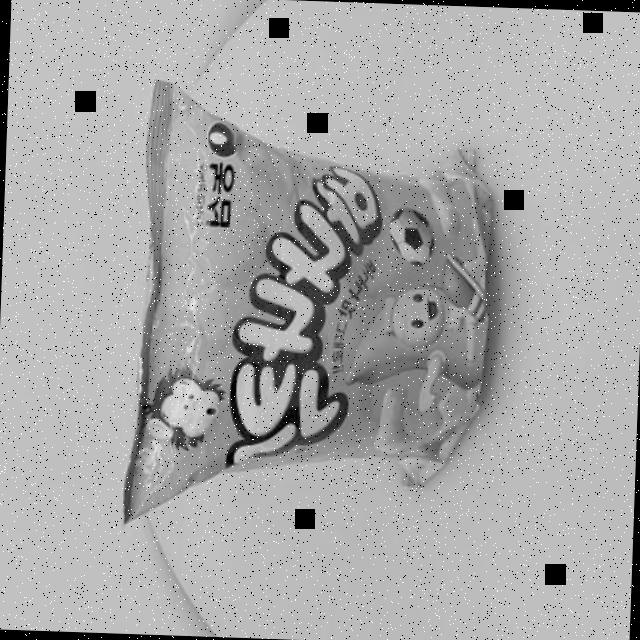snack_bag: (112, 64, 510, 558)
